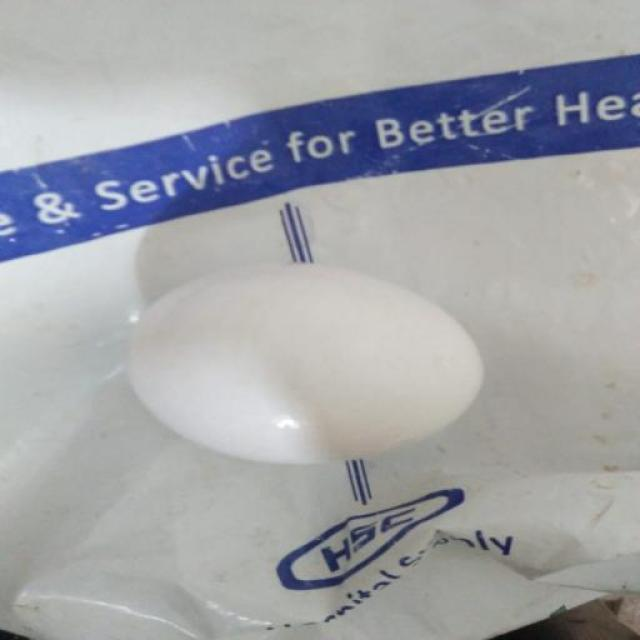telur: (131, 263, 484, 469)
